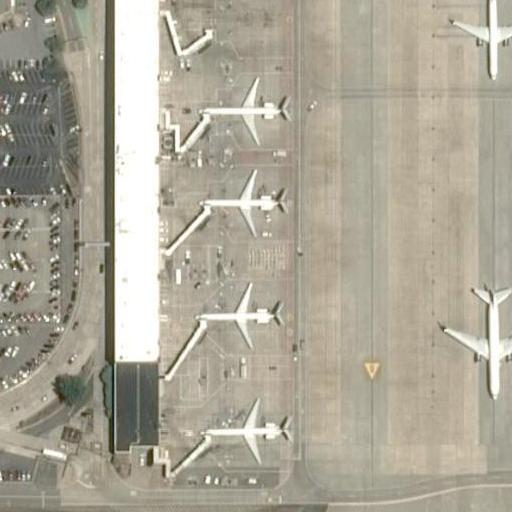Aircraft: (438, 285, 512, 404), (193, 284, 286, 351), (198, 79, 292, 145), (201, 397, 291, 463), (199, 171, 286, 235), (452, 0, 512, 79)
